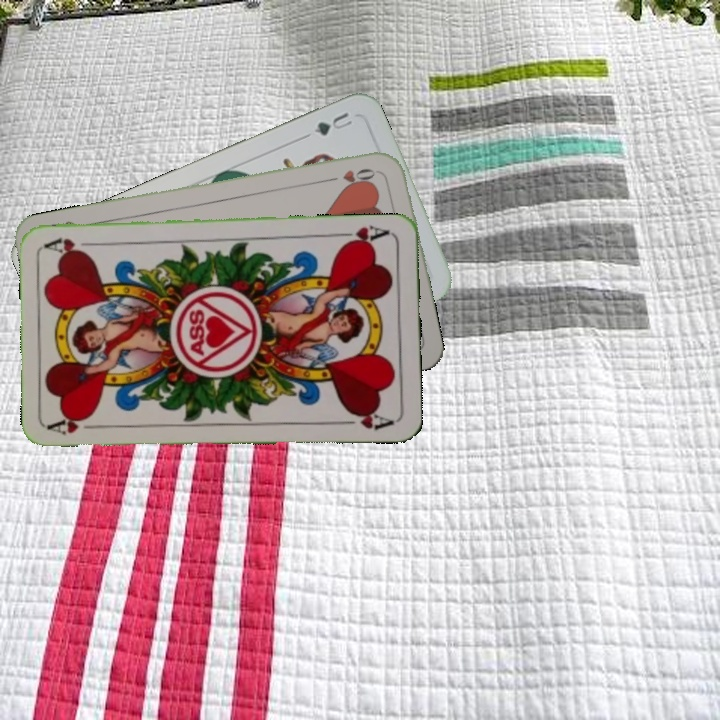GU: (310, 108, 356, 139)
HA: (334, 221, 392, 249), (46, 411, 105, 437)
HO: (323, 164, 382, 186)
